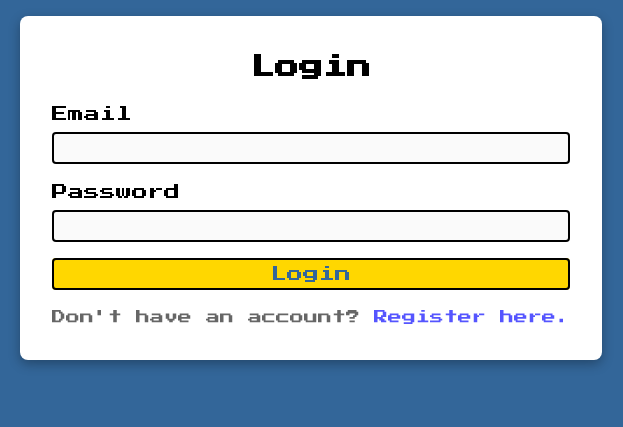
Scenario: LoginPage › shows the server error and stays on the page on failure
This screenshot has width=623, height=427.
Type "ana@example.com" into the field labelled "Email" at (311, 148), box [52,132,570,164]
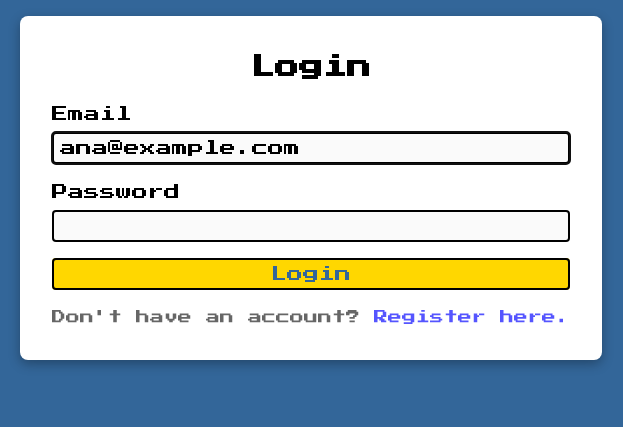
Type "wrong" into the password field labelled "Password" at (311, 226), box [52,210,570,242]
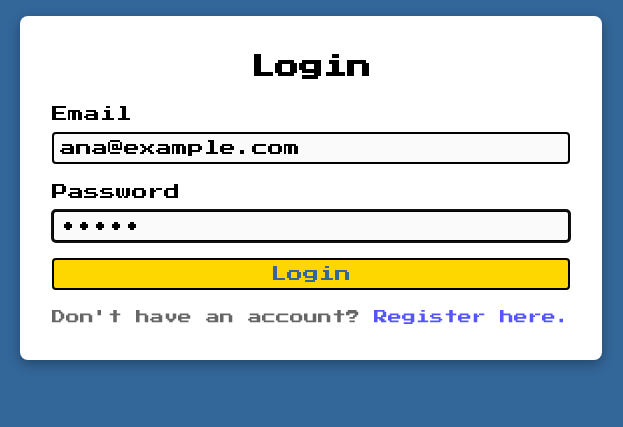
Click the button "Login" at (311, 274), box [52,258,570,290]
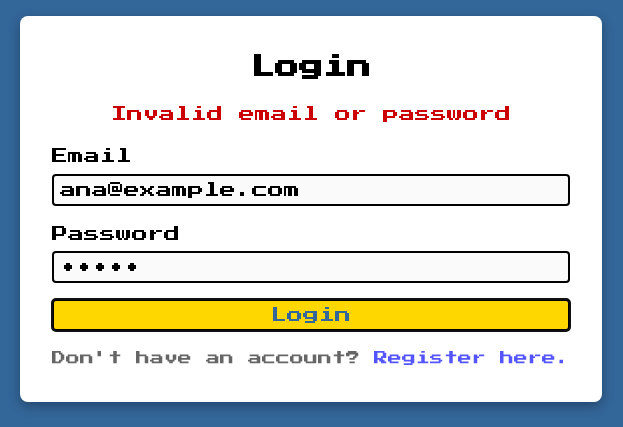
Expected: the message reads "Invalid email or password", [111,106,511,122]
